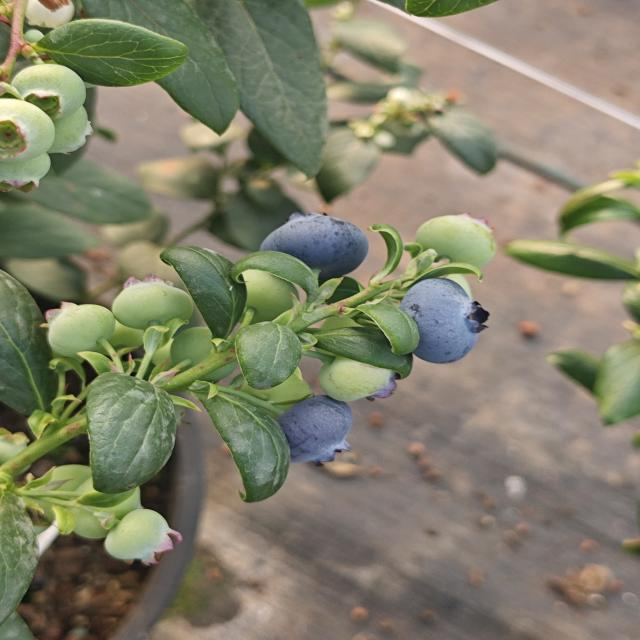ripe: (396, 275, 490, 366), (258, 210, 372, 283), (273, 393, 357, 468)
